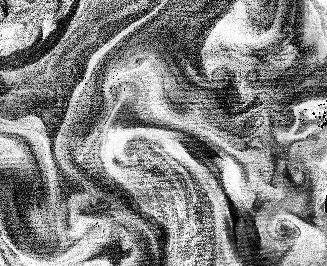CE: (268, 213, 304, 246)
